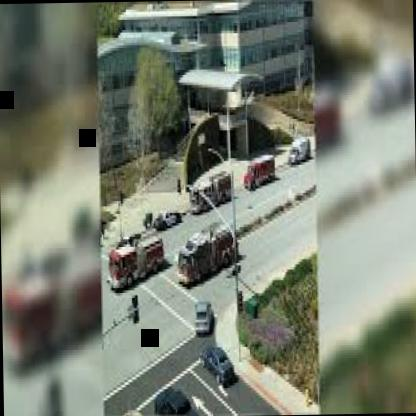car: (174, 218, 254, 291), (107, 226, 176, 296), (189, 164, 236, 214), (147, 379, 208, 416), (235, 148, 281, 194), (201, 338, 237, 392), (190, 287, 216, 335), (287, 131, 317, 170)
